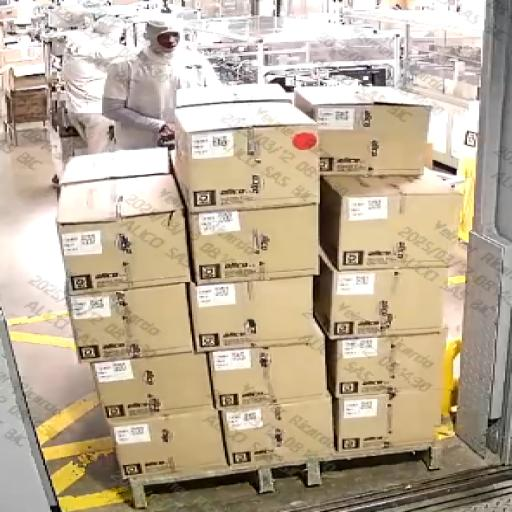Caja no amarrada: (188, 89, 462, 469)
